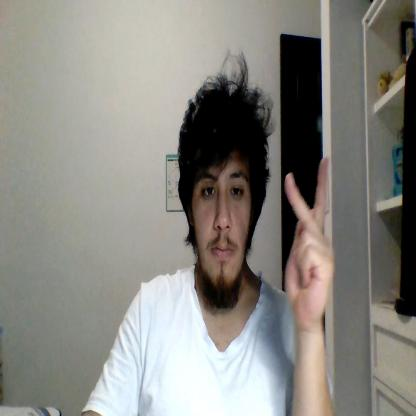P: (285, 157, 335, 320)
